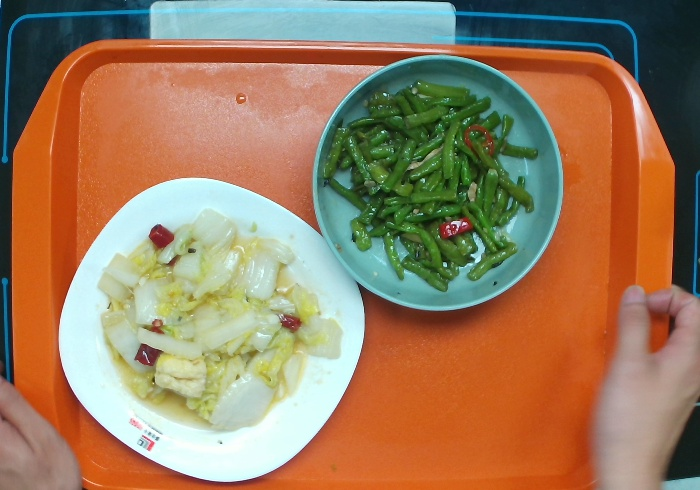ZNLD-Qing_Hua_Yuan_Wan: (307, 42, 567, 320)
ZNLD-Yuan_Jiao_Pan: (53, 169, 377, 483)
